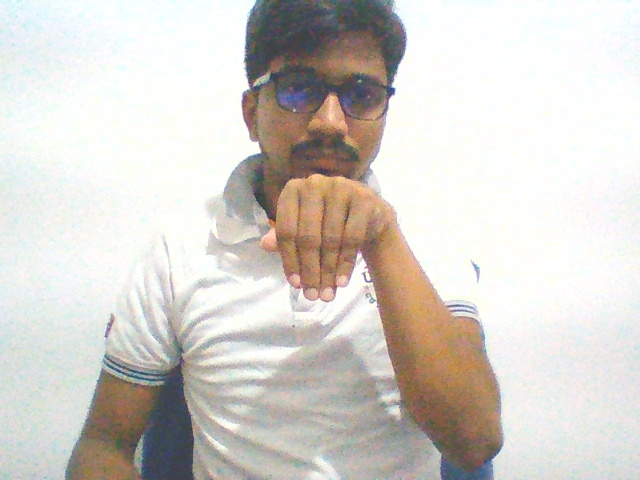Squirrel: (257, 165, 399, 317)
